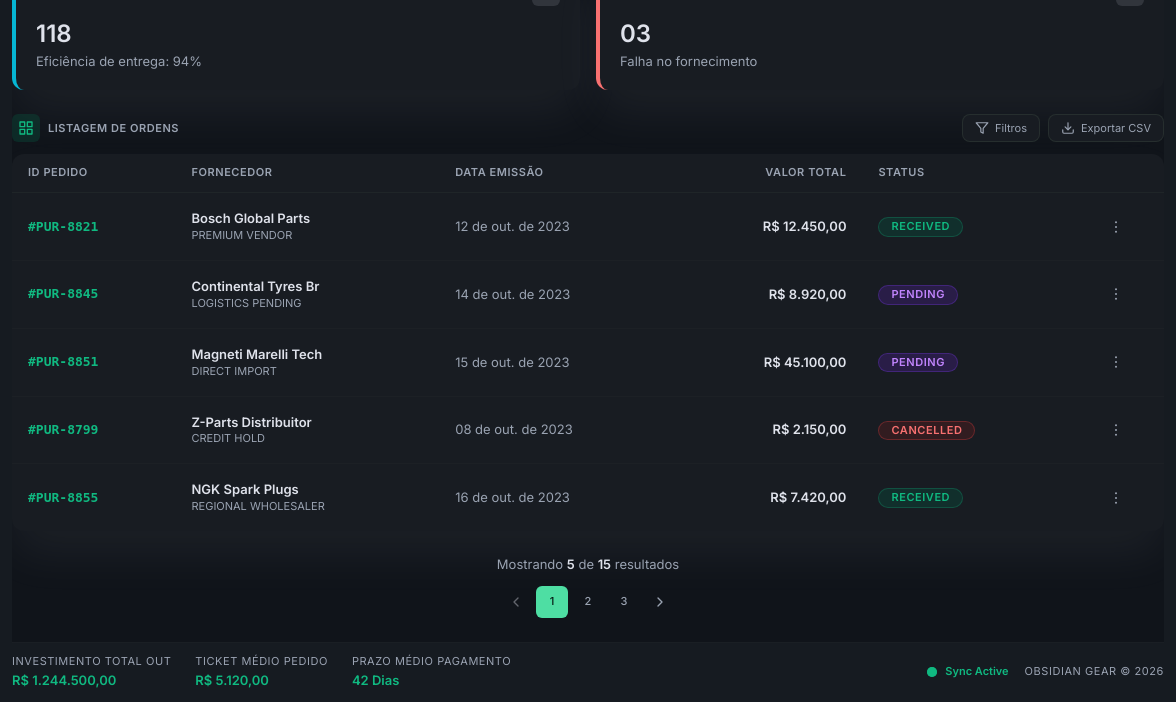
Test: PurchasesPage — 5.x Paginação integrada › 5.2 — clicar na página 2 exibe os próximos 5 registros
(page scrolled)
Click the button named "página 2" at (588, 602), box [572,586,604,618]
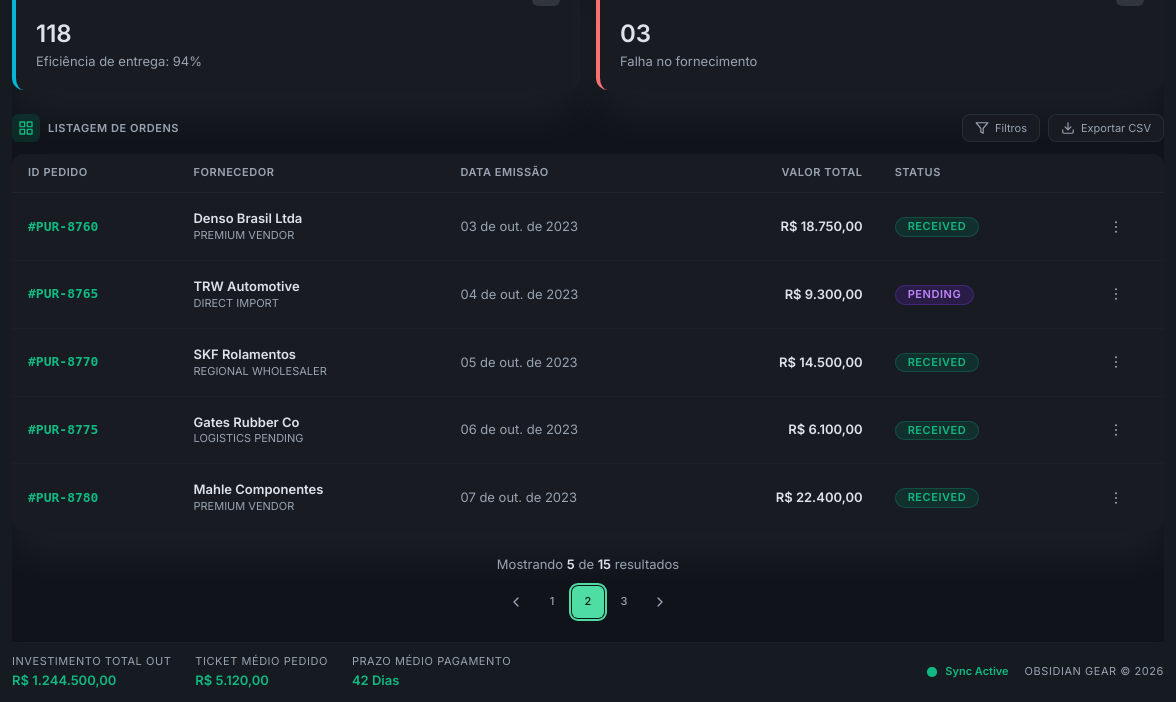
Now the text "#PUR-8821" is gone
Now the text "#PUR-8760" is shown, box [28,219,98,234]
Now the text "#PUR-8765" is shown, box [28,286,98,301]
